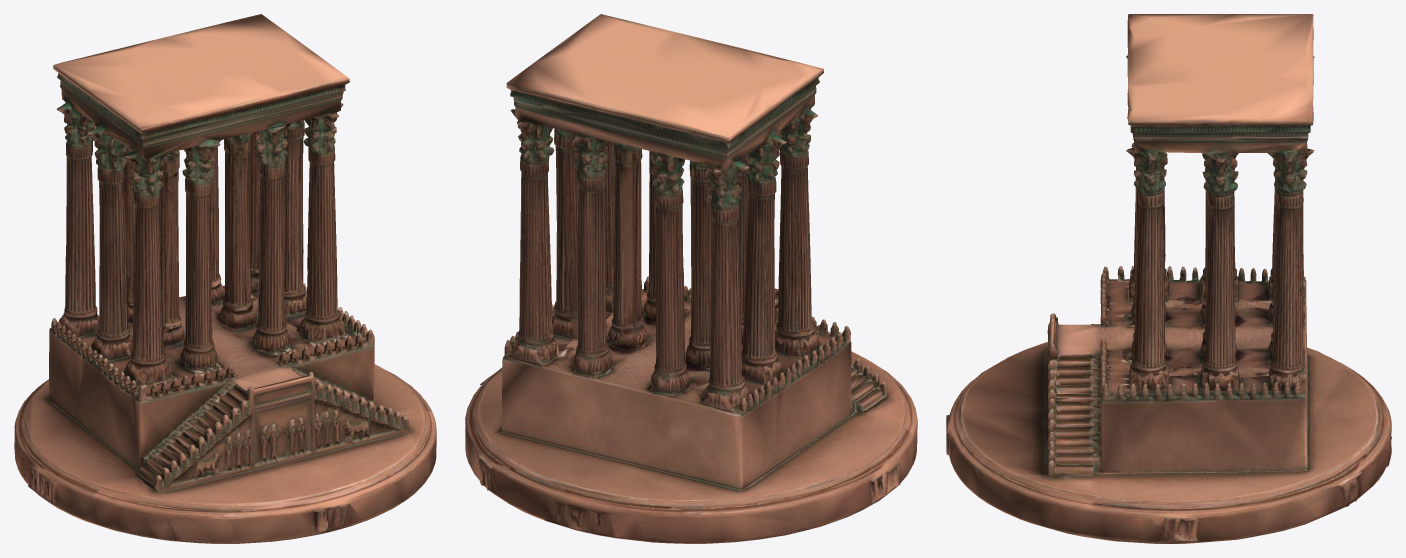
The model's file is persepolis_meshy.glb.
The picture shows the model from 3 angles, left to right: view 1: azimuth 30°, elevation 25°; view 2: azimuth 150°, elevation 25°; view 3: azimuth 270°, elevation 25°; orthographic projection. The views are drawn at different scales.
Visible parts, largest first — view 1: Mesh_0; view 2: Mesh_0; view 3: Mesh_0.
Part boxes in pixels (bbox=[...]): Mesh_0: bbox=[14, 14, 436, 543]; Mesh_0: bbox=[465, 14, 917, 543]; Mesh_0: bbox=[946, 14, 1391, 543].
Size of the model in its own units: 1.91 by 1.85 by 1.91.
1 material, 1 textured.
